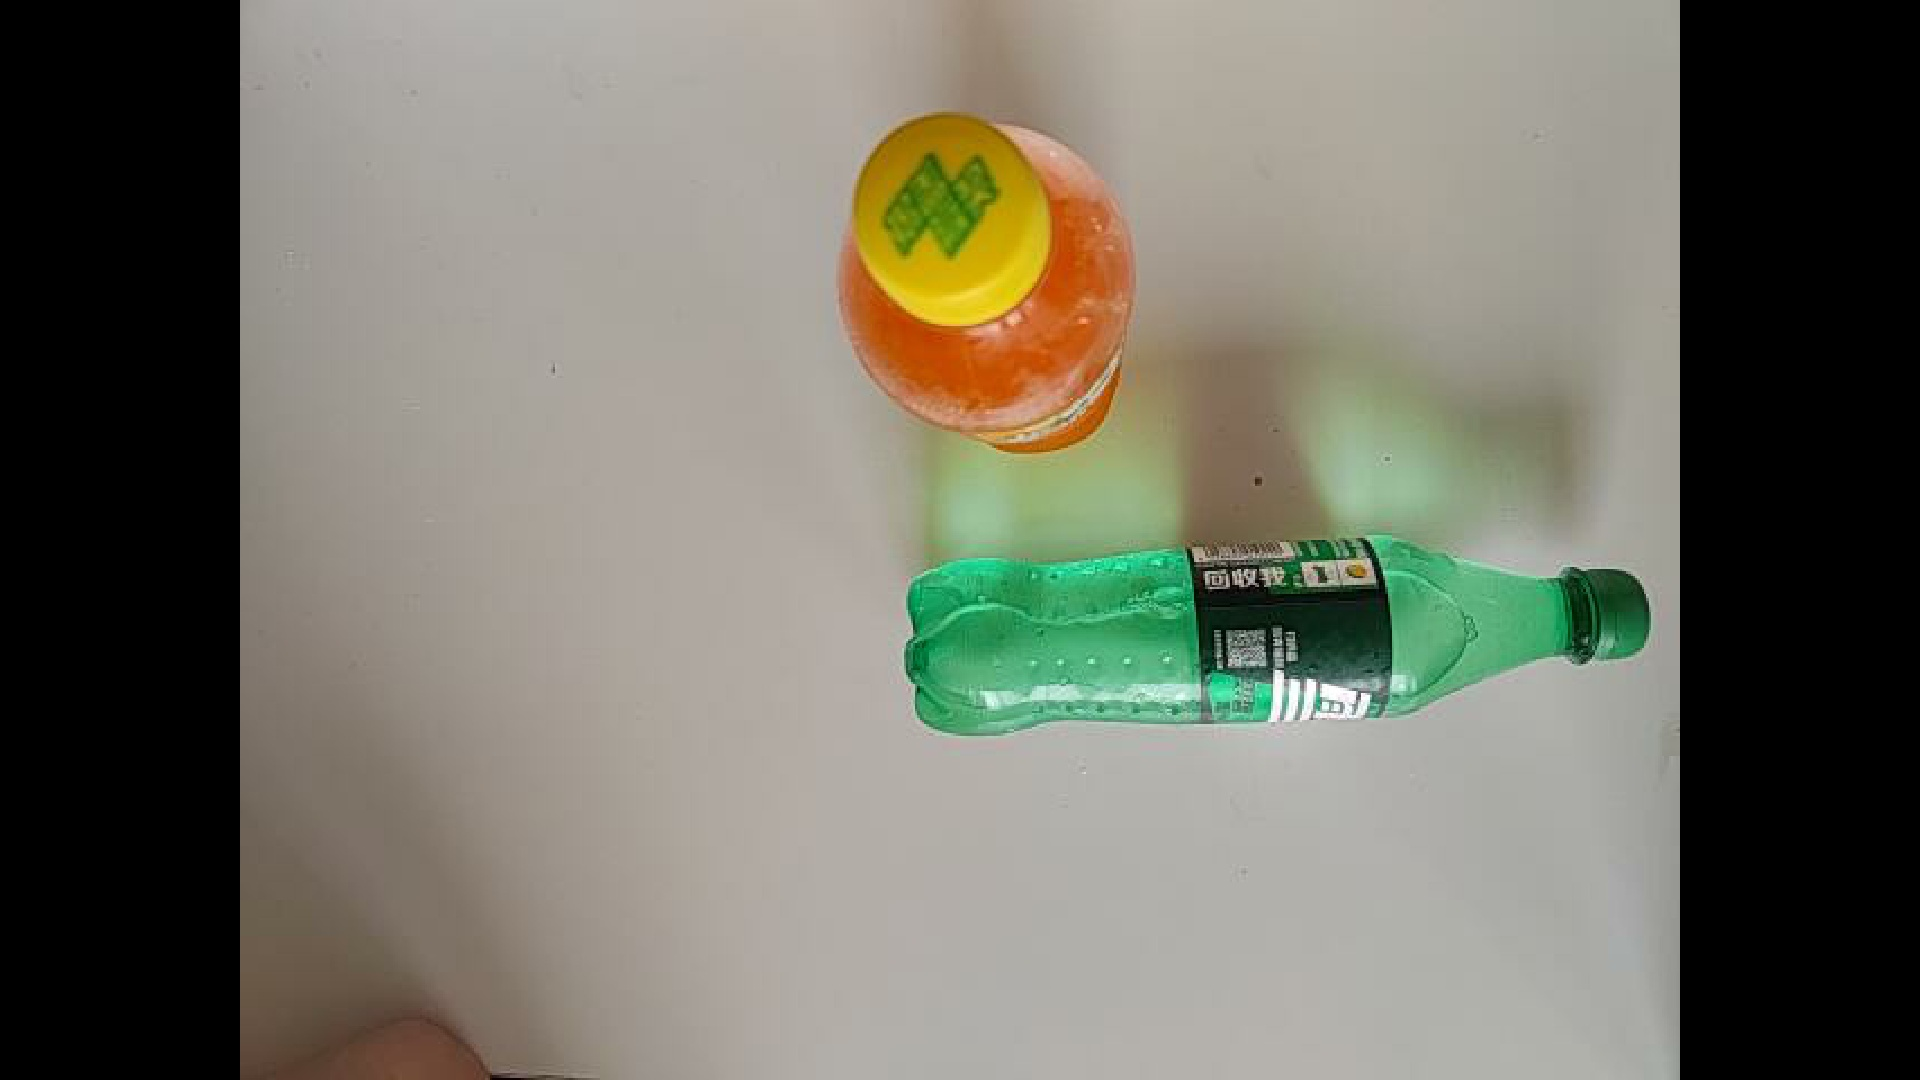fenta: (835, 111, 1138, 459)
sprite: (890, 535, 1662, 744)
